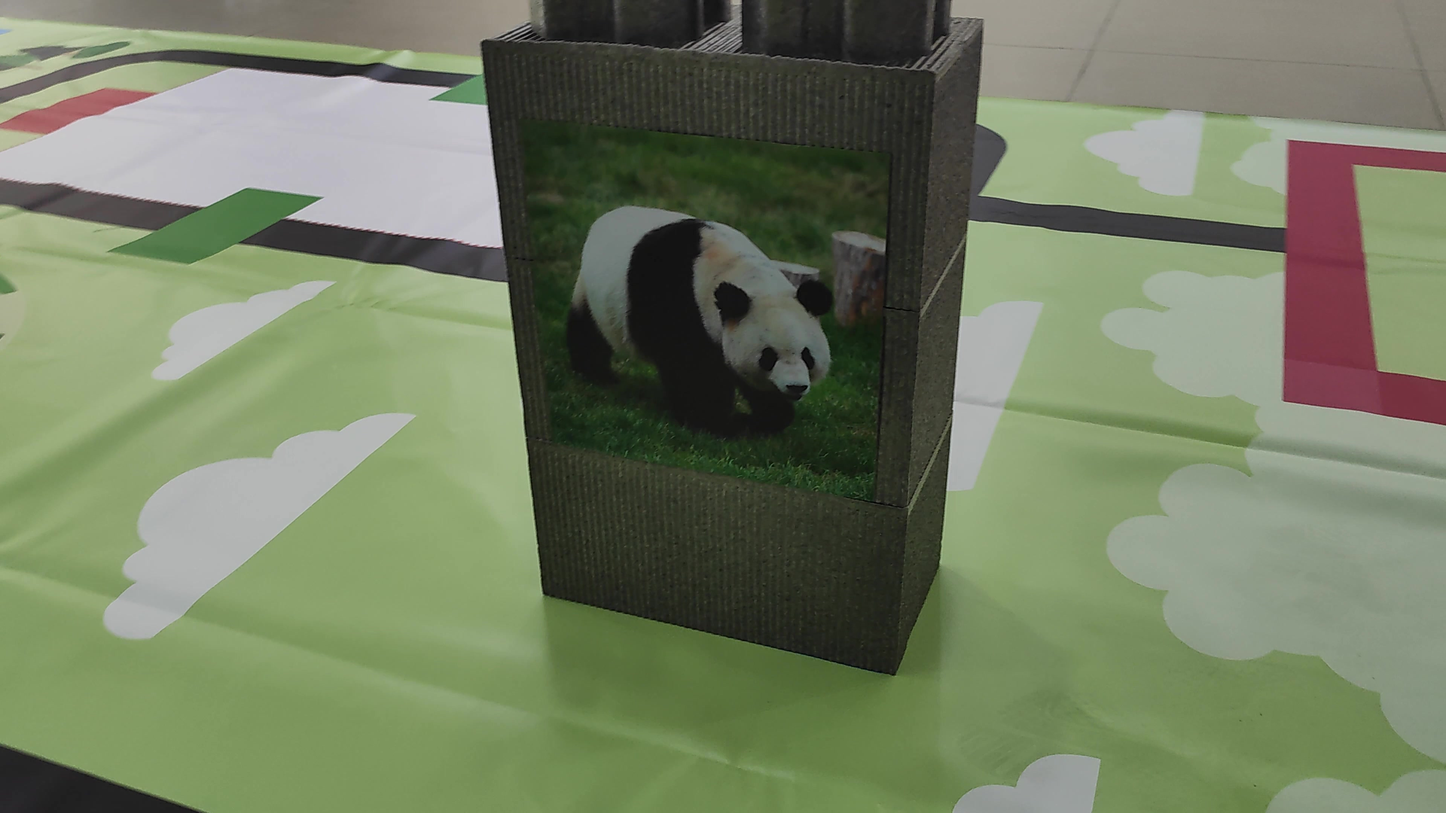panda: (547, 175, 859, 467)
